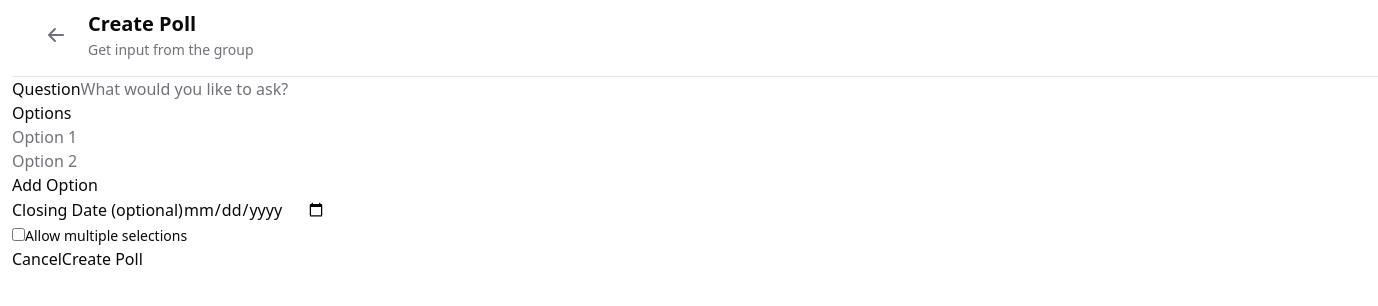
Scenario: NewPollPage › poll creation › should show error message on creation failure
The width and height of the screenshot is (1378, 306).
Expected: the form with test id "poll-creation-form" is shown, [12,77,326,271]
# Fill in the form
Type "Where should we eat?" into the field labelled "Question".
click(196, 89); type("Where should we eat?")  # box [80,77,312,101]
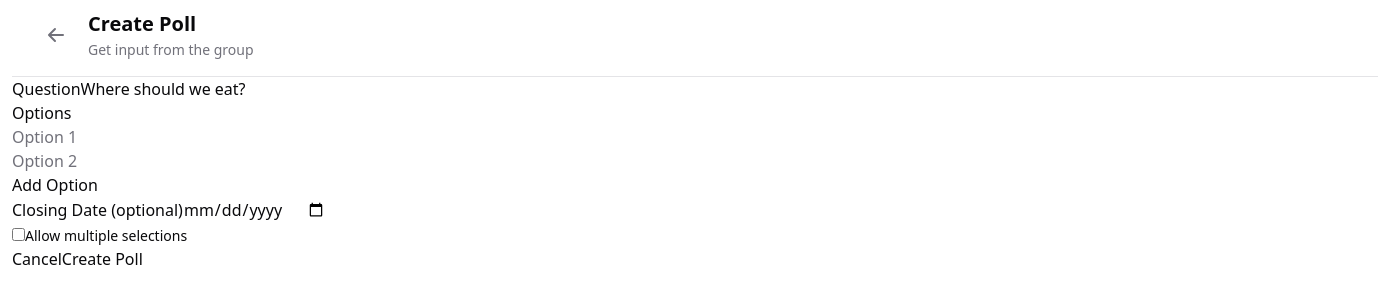
Type "Pizza" into the field with placeholder "Option 1".
click(128, 137); type("Pizza")  # box [12,125,243,149]
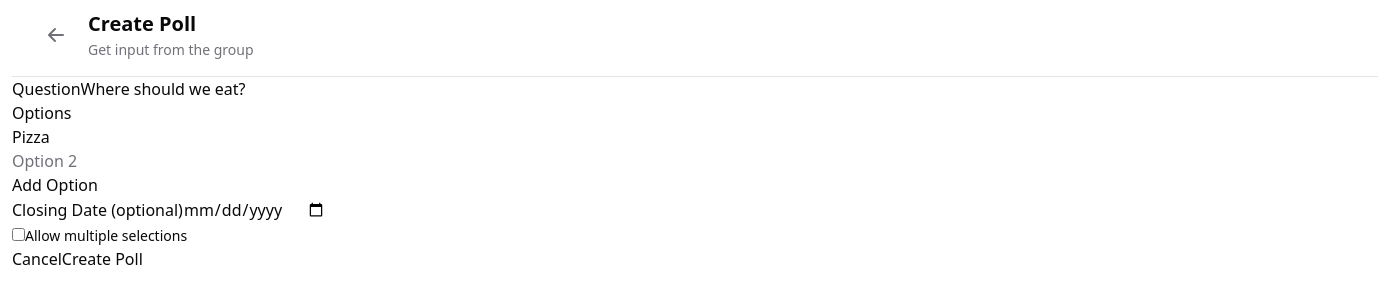
Type "Tacos" into the field with placeholder "Option 2".
click(128, 161); type("Tacos")  # box [12,149,243,173]
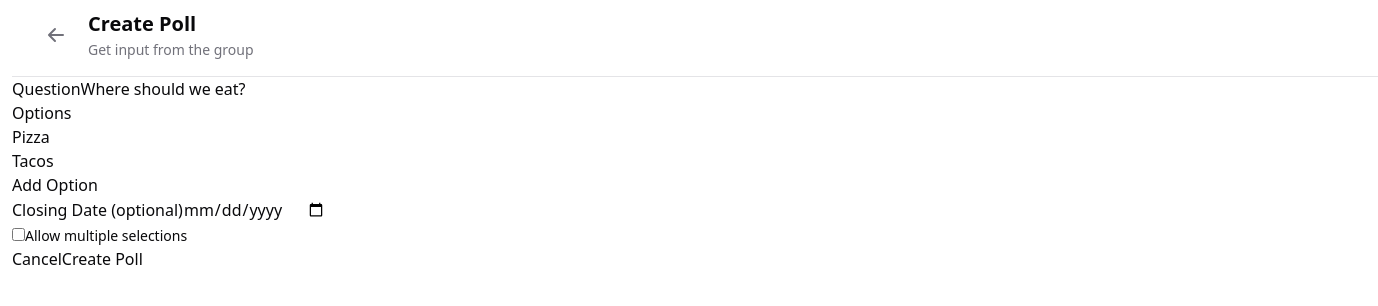
Click the button "Create Poll".
click(102, 259)  # box [62,247,143,271]
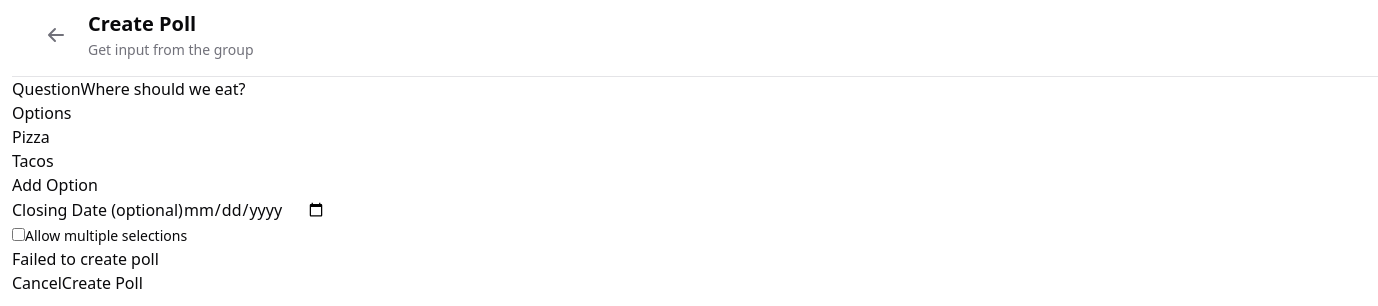
Expected: the message "Failed to create poll" is shown, [12,248,159,270]
